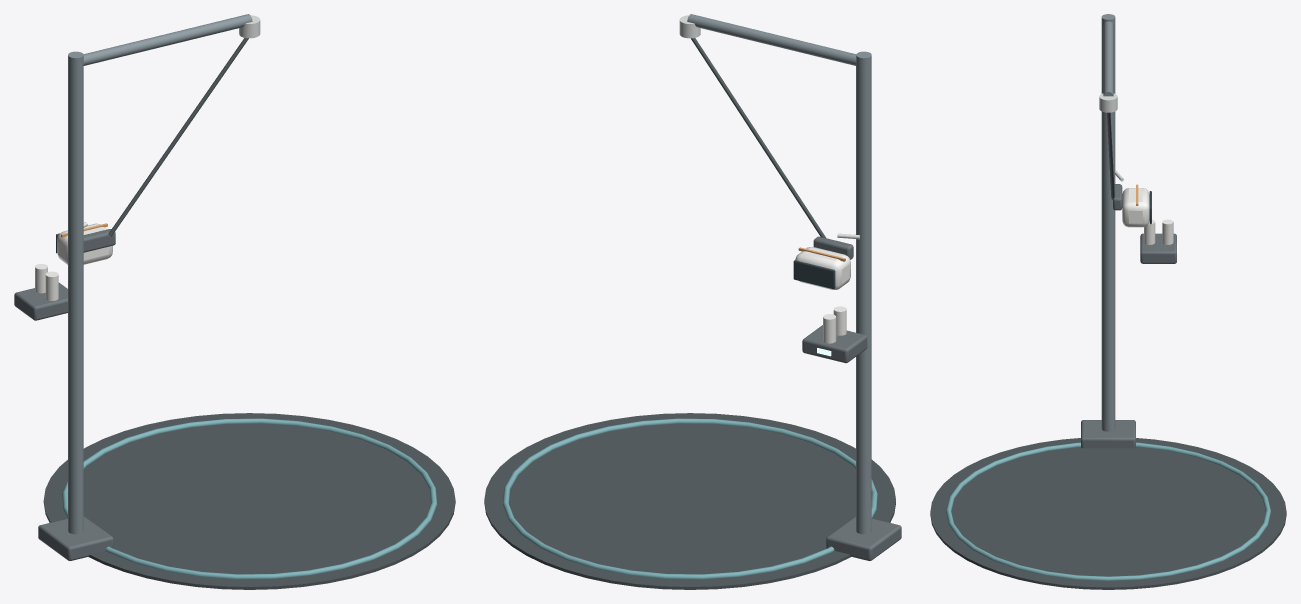
Rendered from vr_station.glb.
3 renders of one model, left to right at view 1: azimuth 30°, elevation 25°; view 2: azimuth 150°, elevation 25°; view 3: azimuth 270°, elevation 25°, orthographic. The views are drawn at different scales.
Parts seen in each view (by area): view 1: mat_black_rubber, mast_dark_alloy, boundary_teal, boom_dark_alloy, mast_foot_graphite, cradle_graphite, cable_black_rubber, headset_white_painted; view 2: mat_black_rubber, mast_dark_alloy, boundary_teal, boom_dark_alloy, mast_foot_graphite, cradle_graphite, cable_black_rubber, headset_white_painted, visor_dark_glass; view 3: mat_black_rubber, mast_dark_alloy, boundary_teal, mast_foot_graphite, headset_white_painted, cradle_graphite, boom_dark_alloy.
Part boxes in pixels (x1,y1,x2,y2): mat_black_rubber: [43, 413, 455, 589]; mast_dark_alloy: [68, 51, 83, 534]; boundary_teal: [62, 418, 437, 579]; boom_dark_alloy: [83, 14, 252, 65]; mast_foot_graphite: [38, 516, 113, 560]; cradle_graphite: [14, 282, 67, 320]; cable_black_rubber: [108, 38, 248, 236]; headset_white_painted: [57, 223, 112, 264]; mat_black_rubber: [484, 413, 895, 589]; mast_dark_alloy: [856, 51, 871, 534]; boundary_teal: [502, 418, 877, 579]; boom_dark_alloy: [687, 14, 856, 65]; mast_foot_graphite: [826, 516, 901, 560]; cradle_graphite: [802, 325, 867, 363]; cable_black_rubber: [691, 38, 825, 237]; headset_white_painted: [795, 247, 850, 289]; visor_dark_glass: [793, 260, 835, 289]; mat_black_rubber: [930, 438, 1286, 589]; mast_dark_alloy: [1101, 14, 1115, 431]; boundary_teal: [946, 442, 1270, 580]; mast_foot_graphite: [1081, 420, 1135, 448]; headset_white_painted: [1122, 188, 1149, 227]; cradle_graphite: [1140, 233, 1176, 263]; boom_dark_alloy: [1103, 21, 1113, 96].
Bounding box in the file's own units: 1.64 × 2.05 × 1.56.
